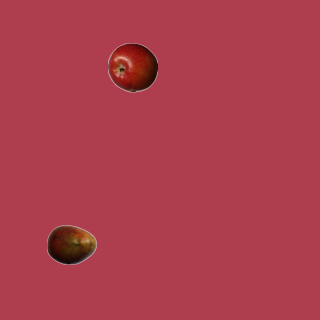Apple Braeburn: (107, 42, 157, 92)
Mango Red: (46, 219, 96, 269)
